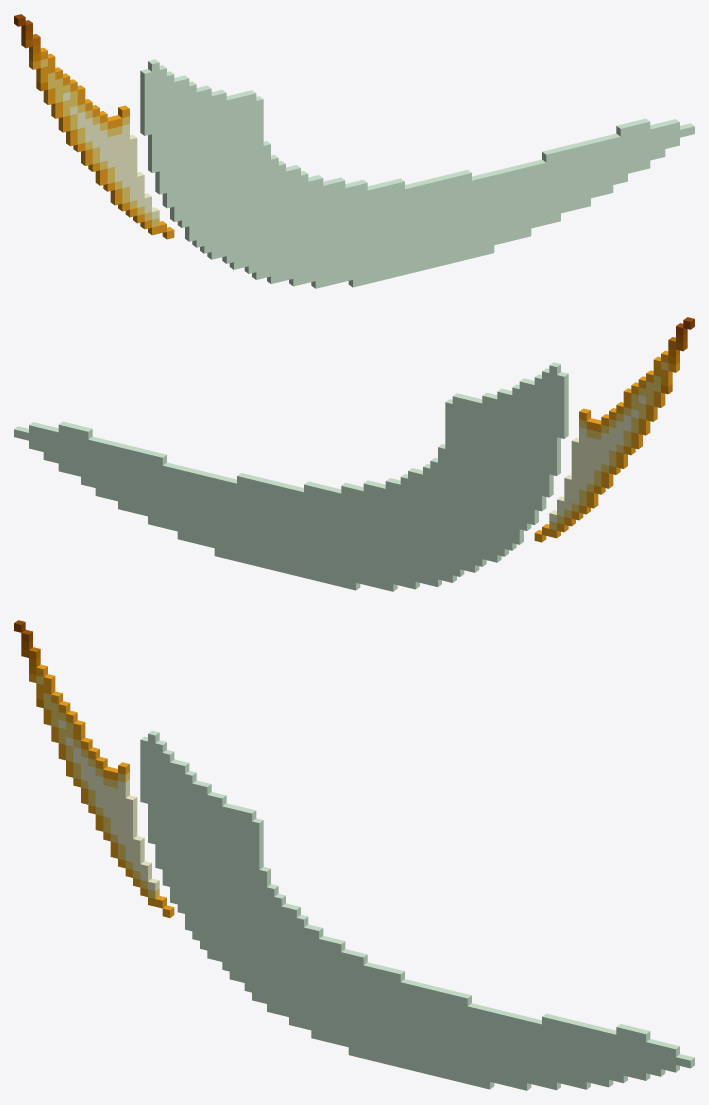
Rendered from Fight_116_2_06_fx.obj.
3 renders of one model, top to bottom at view 1: azimuth 30°, elevation 25°; view 2: azimuth 150°, elevation 25°; view 3: azimuth 330°, elevation 25°, orthographic.
Bounding box in the file's own units: 9.1 × 4.5 × 0.1.
1 material, 1 textured.
